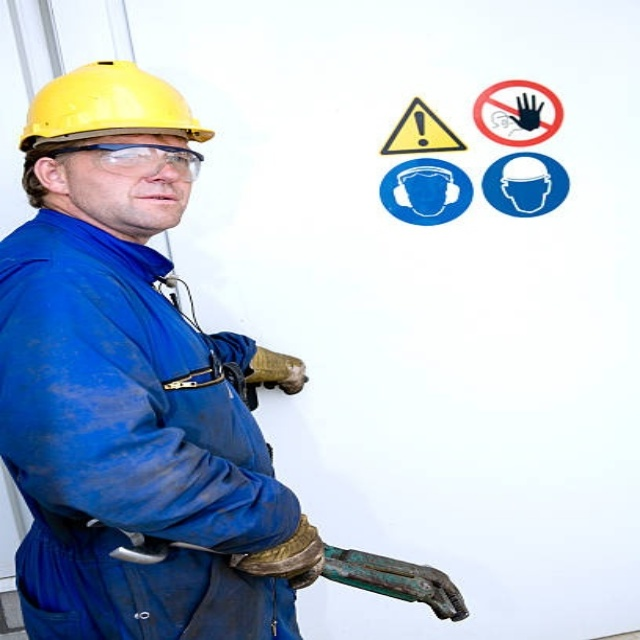Gafas: (52, 143, 212, 178)
Sin_mascara: (125, 184, 188, 226)
